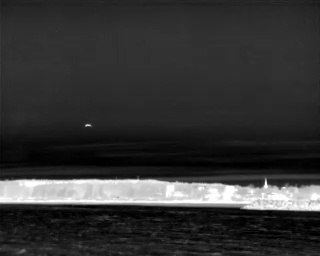BIRD: (83, 121, 93, 130)
